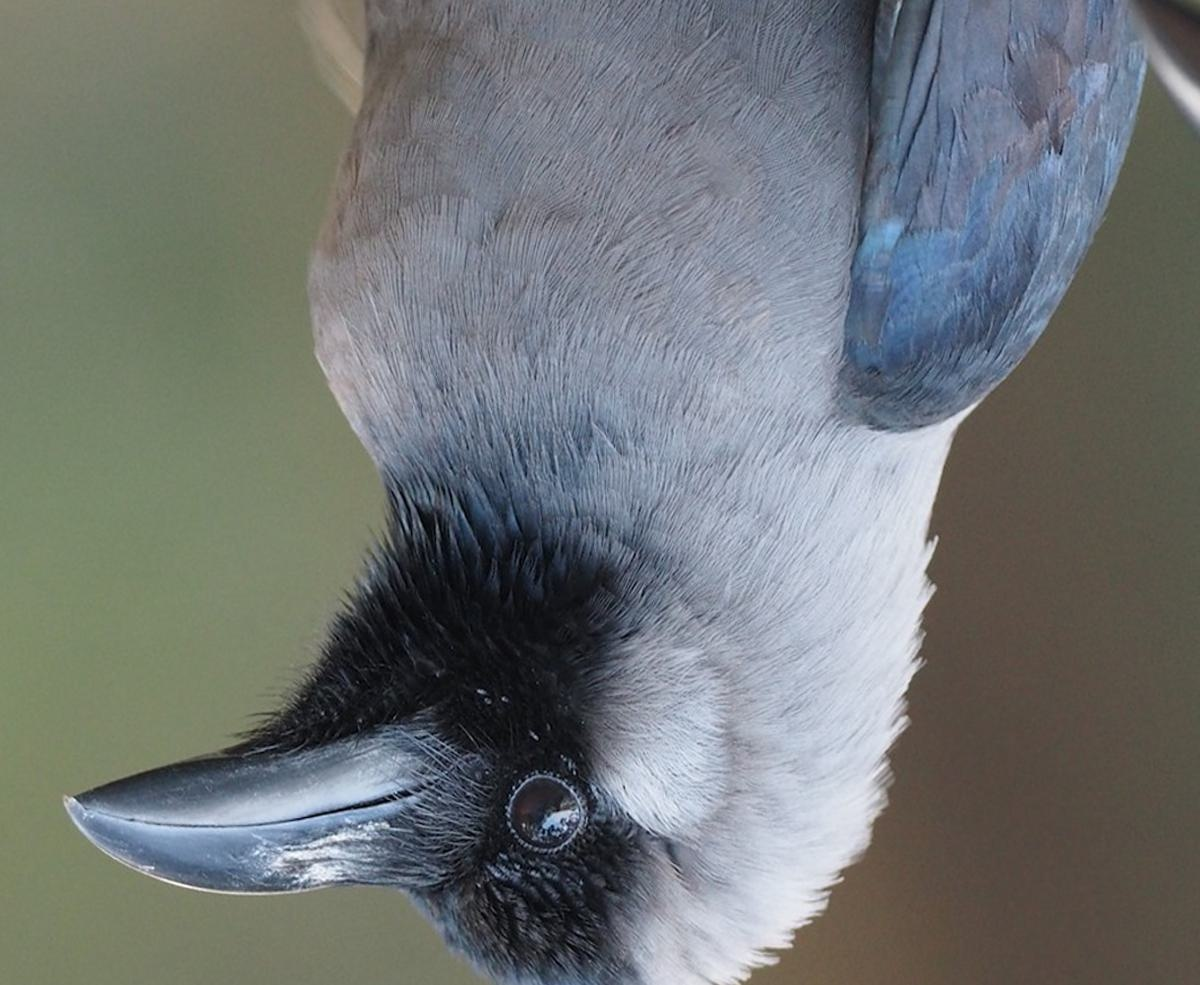crow: (57, 1, 1159, 979)
